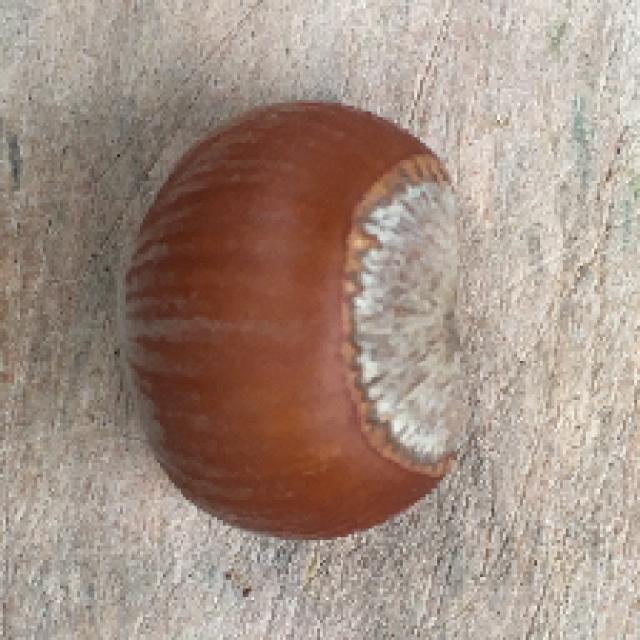QualityHazelnut: (116, 99, 473, 543)
